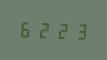six: (18, 18, 34, 39)
three: (69, 20, 85, 41)
two: (52, 19, 68, 40), (35, 19, 51, 39)
